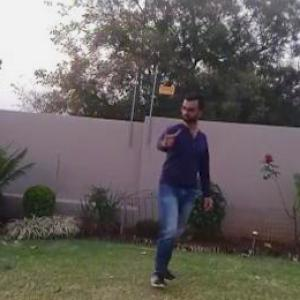takeoff-hand: (157, 119, 182, 150)
